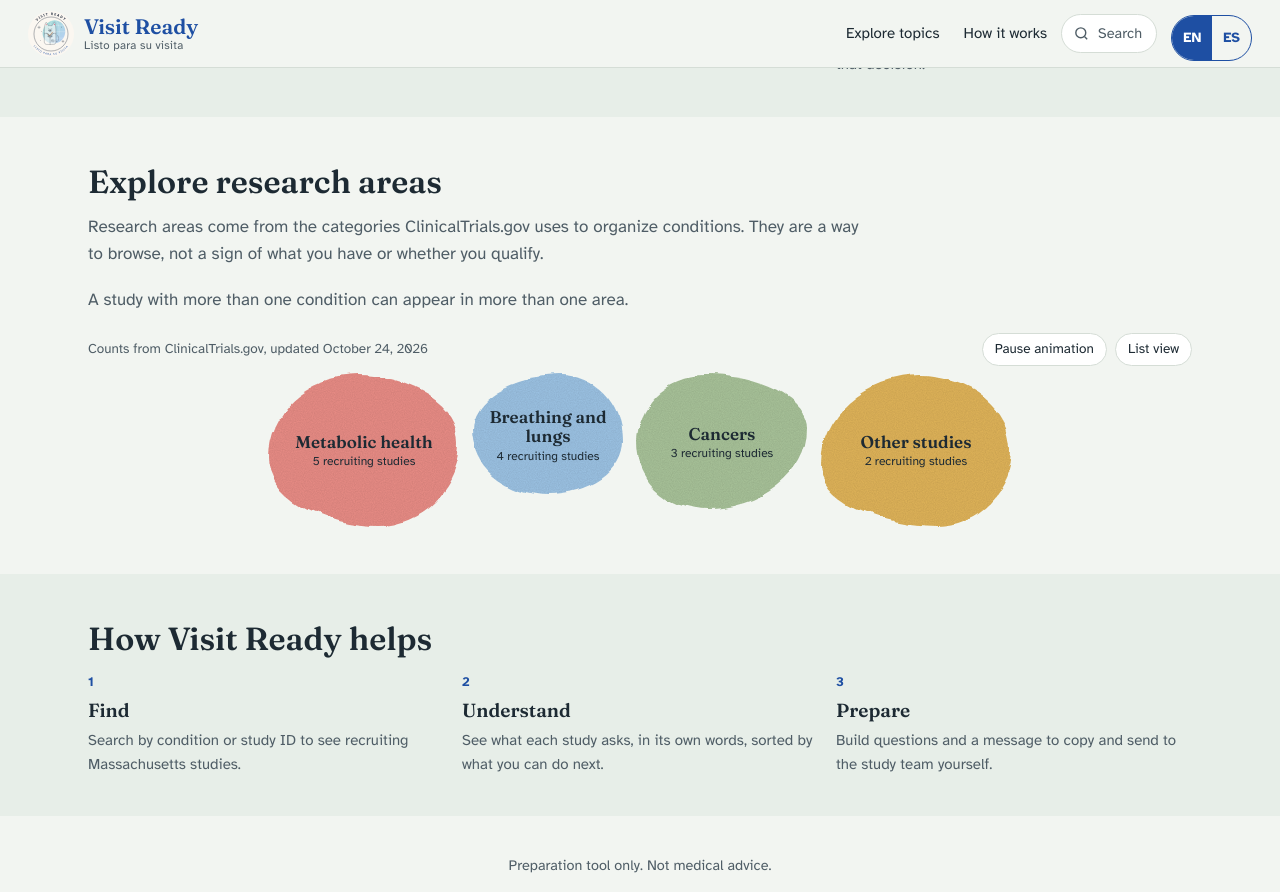
topic garden › opens details inline, Escape closes them, and focus returns to the topic
The image size is (1280, 892).
(page scrolled)
Click the button "Metabolic health 5 recruiting studies": (364, 450) [269,376,459,524]
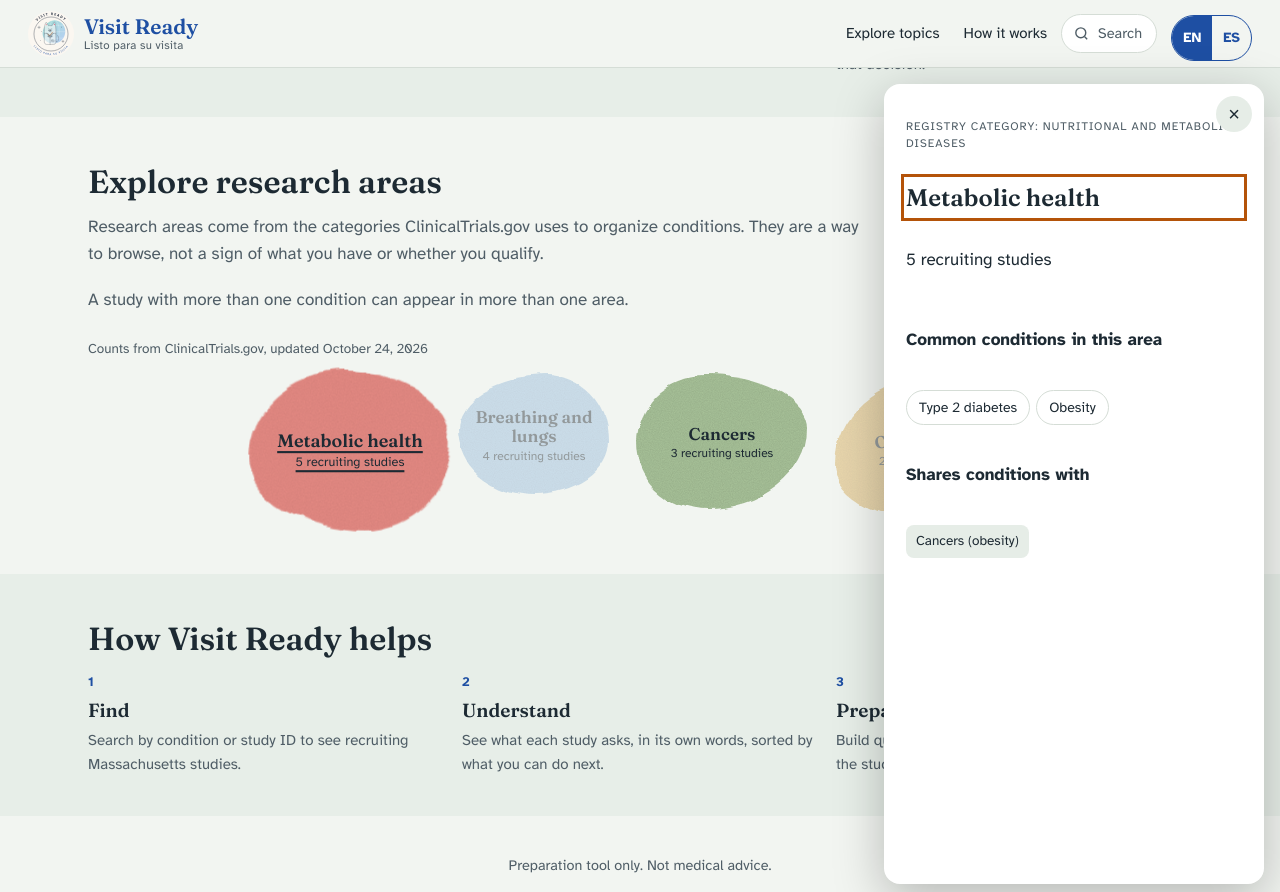
Now the button "Metabolic health 5 recruiting studies" is expanded, box [249,372,451,529]
Now the element with id "od-topic-details" is shown, box [884,84,1264,884]
Now the text "Nutritional and Metabolic Diseases" is shown, box [906,118,1232,150]
Press Escape
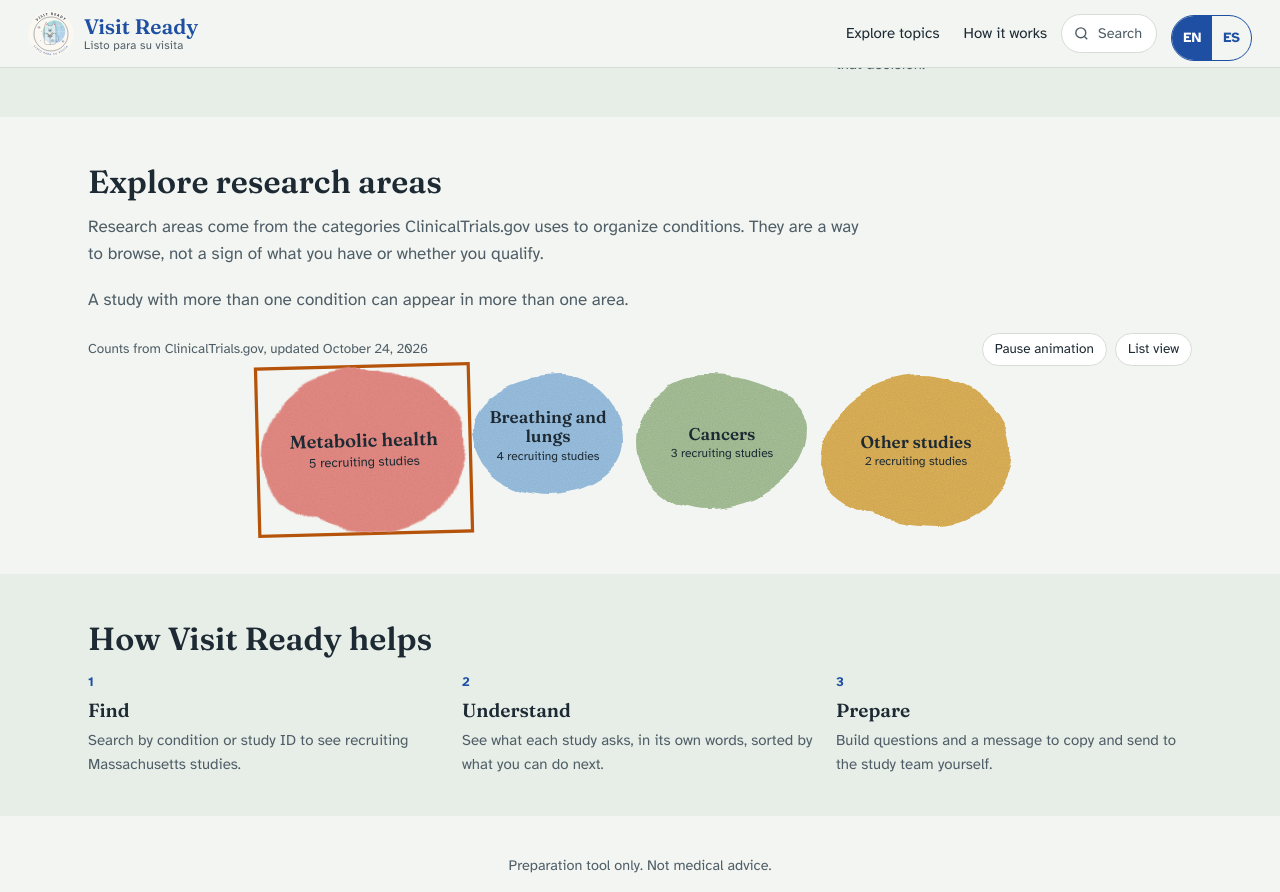
Now the element with id "od-topic-details" is gone
